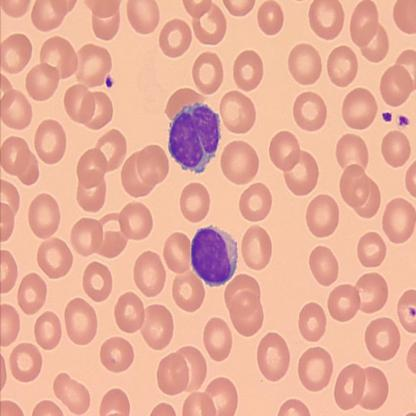Atypical lymphocyte: (167, 104, 227, 176), (189, 224, 240, 289)
